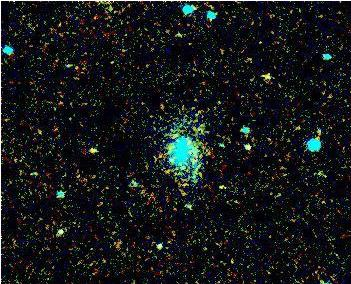star: (209, 172, 239, 202)
